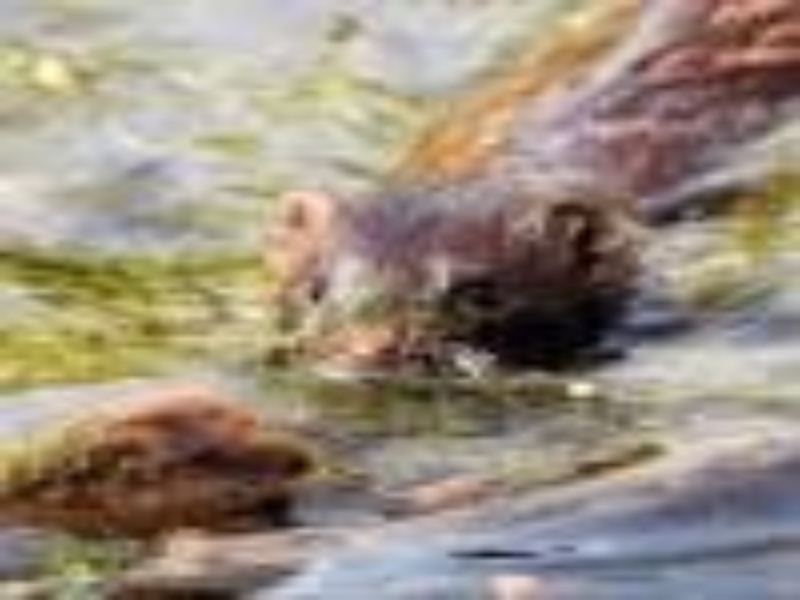minkish: (254, 6, 795, 393)
